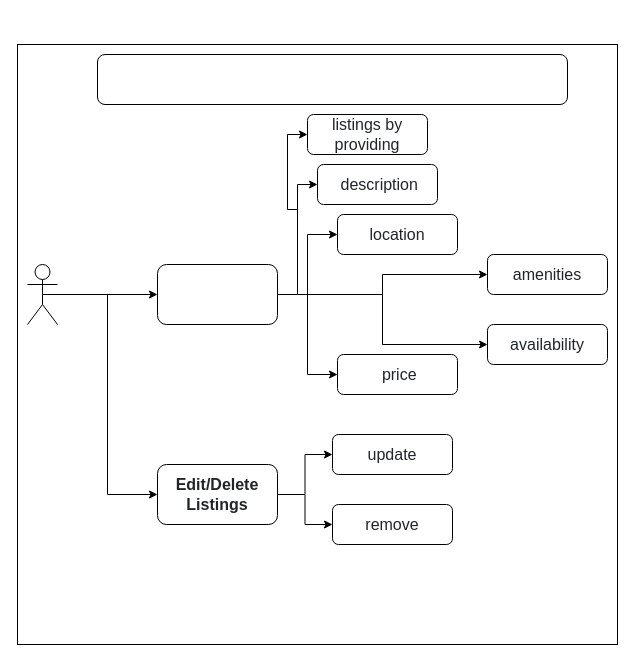
This 635x662 diagram has some shape labels left out. The shapes that lost their labels are listed below. From the top down, each one's centre as x and y in pixels, then its label:
At point (332, 79): "Property Listings Management".
At point (42, 294): "Actor".
At point (217, 294): "Add Listings".
